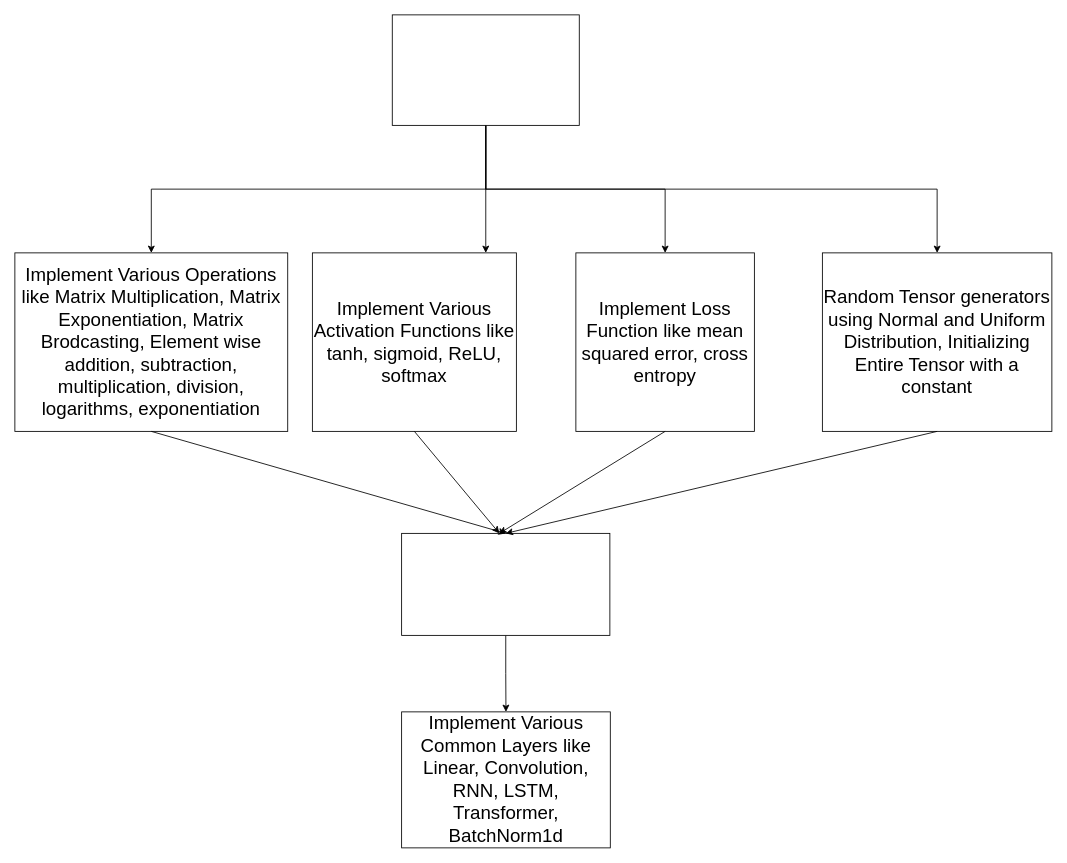
Some shapes in this 1067 by 863 pixel diagram are drawn without their labels. The shapes that lost their labels are listed below. From the top down, each one's box as (x1, y1, x2, y2) in pixels, then its label:
(391, 14, 579, 125): Implement Tenso r
(401, 533, 610, 635): Build a Auto Grad Engine with optimizer using gradient descent and Adam
